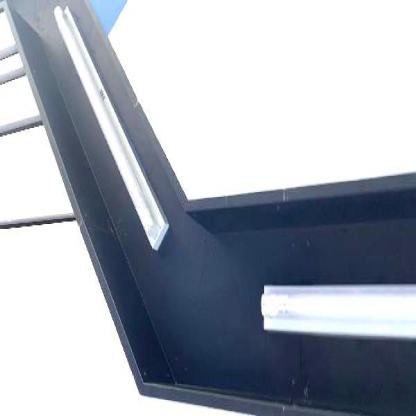light_off: (48, 2, 180, 261), (253, 220, 413, 368)
